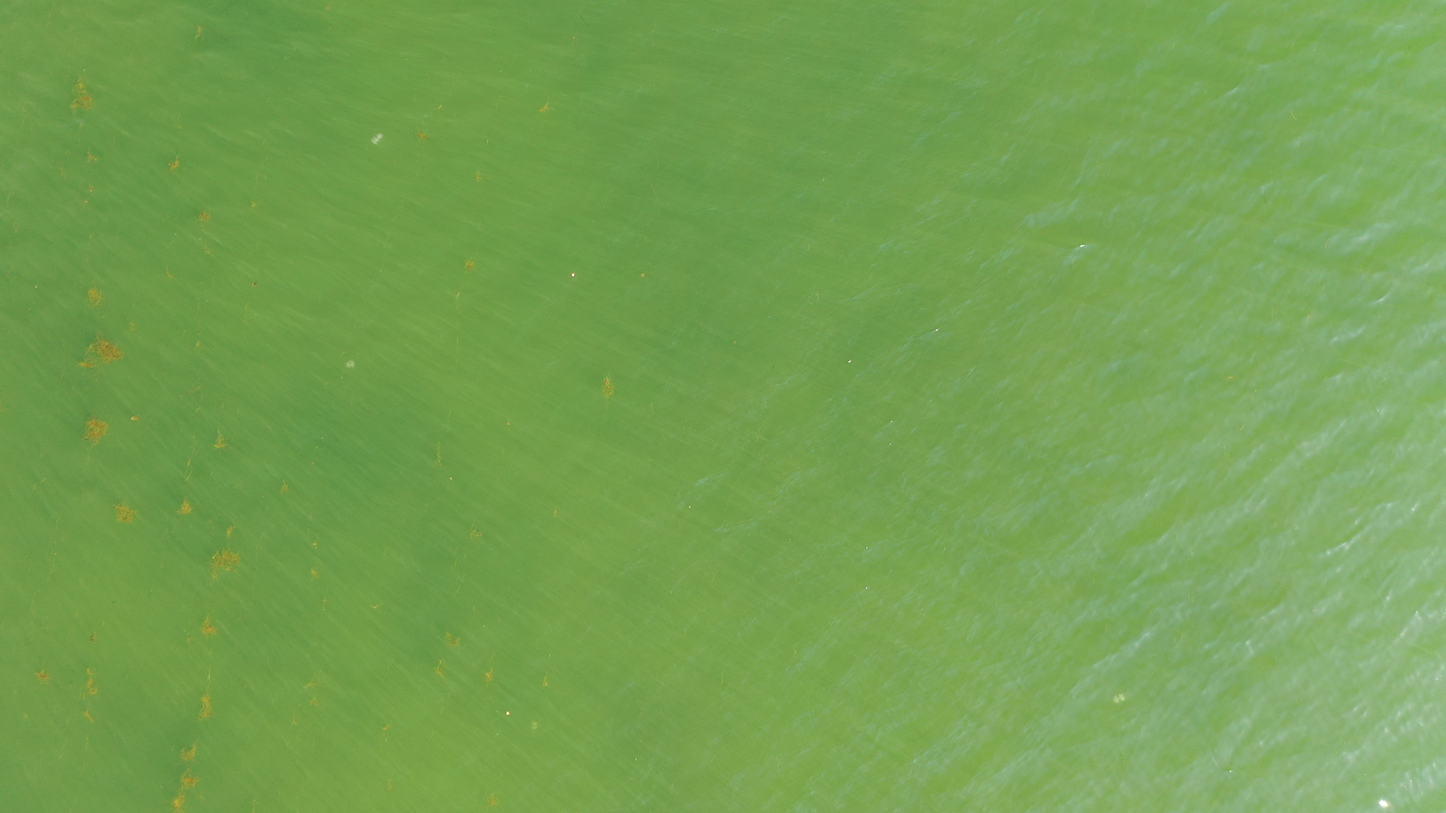meduse: (372, 132, 384, 144), (1114, 693, 1127, 702), (345, 361, 354, 368), (532, 722, 538, 729)
